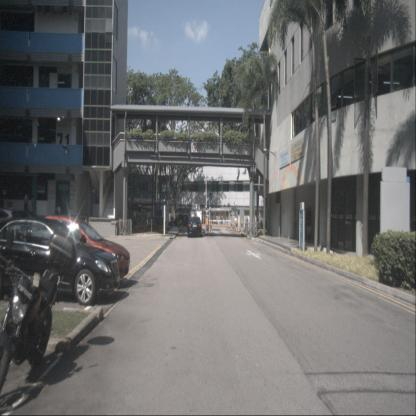human-pedestrian-adult: (23, 193, 30, 217), (31, 195, 37, 217), (56, 203, 61, 217)
vehicle-car: (0, 217, 120, 306), (12, 215, 131, 286), (187, 216, 202, 237), (172, 214, 190, 226)
vehicle-motorcycle: (0, 230, 77, 393)
